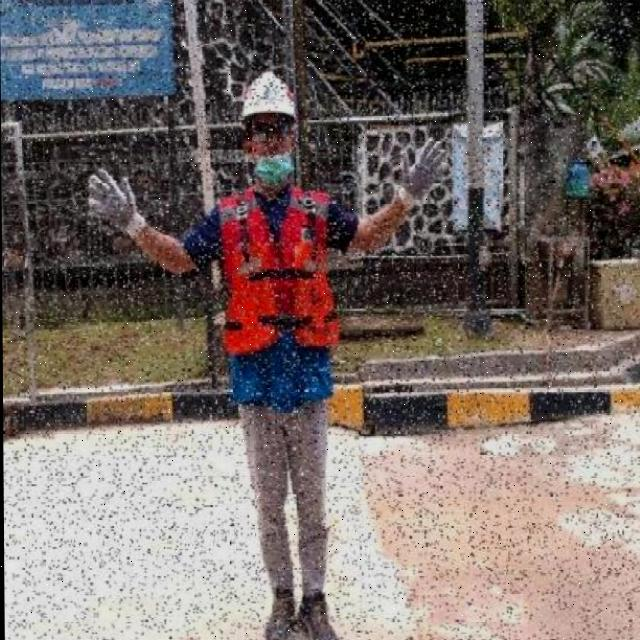Gloves: (85, 168, 146, 240), (401, 136, 451, 201), (324, 200, 358, 252)
Safety-Boot: (296, 590, 337, 640), (262, 591, 294, 640)
Safety-Vest: (215, 184, 339, 355)
